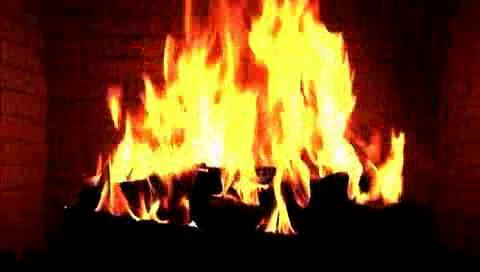fire: (99, 11, 393, 231)
